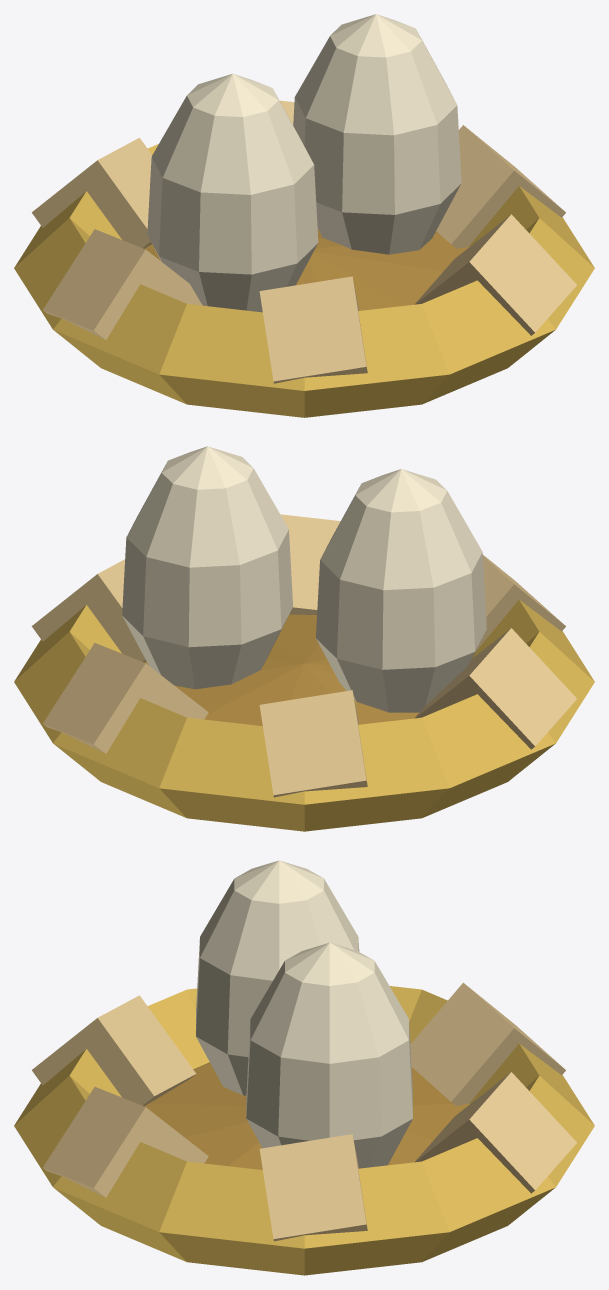
The model's file is egg_nest.glb.
The picture shows the model from 3 angles, top to bottom: view 1: azimuth 30°, elevation 25°; view 2: azimuth 150°, elevation 25°; view 3: azimuth 270°, elevation 25°; orthographic projection.
Parts seen in each view (by area): view 1: Straw_nest_rim, Cream_egg, Cream_egg.001, Straw_woven_bundle.004, Straw_woven_bundle.005, Straw_woven_bundle.003, Nest_woven_bowl, Straw_woven_bundle.002, Straw_woven_bundle; view 2: Straw_nest_rim, Cream_egg.001, Cream_egg, Straw_woven_bundle.002, Nest_woven_bowl, Straw_woven_bundle.001, Straw_woven_bundle.003, Straw_woven_bundle, Straw_woven_bundle.005, Straw_woven_bundle.004; view 3: Straw_nest_rim, Cream_egg.001, Cream_egg, Nest_woven_bowl, Straw_woven_bundle, Straw_woven_bundle.002, Straw_woven_bundle.004, Straw_woven_bundle.001, Straw_woven_bundle.005.
Part boxes in pixels (bbox=[...]): Straw_nest_rim: bbox=[14, 144, 594, 417]; Cream_egg: bbox=[147, 73, 318, 312]; Cream_egg.001: bbox=[293, 14, 461, 254]; Straw_woven_bundle.004: bbox=[259, 276, 367, 383]; Straw_woven_bundle.005: bbox=[414, 214, 576, 335]; Straw_woven_bundle.003: bbox=[43, 229, 202, 339]; Nest_woven_bowl: bbox=[144, 228, 469, 310]; Straw_woven_bundle.002: bbox=[32, 137, 152, 248]; Straw_woven_bundle: bbox=[436, 125, 565, 248]; Straw_nest_rim: bbox=[14, 600, 594, 831]; Cream_egg.001: bbox=[122, 446, 292, 689]; Cream_egg: bbox=[316, 469, 486, 712]; Straw_woven_bundle.002: bbox=[259, 690, 367, 797]; Nest_woven_bowl: bbox=[145, 614, 418, 726]; Straw_woven_bundle.001: bbox=[43, 643, 208, 753]; Straw_woven_bundle.003: bbox=[414, 628, 576, 749]; Straw_woven_bundle: bbox=[31, 559, 146, 662]; Straw_woven_bundle.005: bbox=[280, 514, 340, 614]; Straw_woven_bundle.004: bbox=[476, 555, 565, 650]; Straw_nest_rim: bbox=[14, 986, 594, 1275]; Cream_egg.001: bbox=[246, 942, 412, 1168]; Cream_egg: bbox=[196, 860, 359, 1095]; Nest_woven_bowl: bbox=[144, 1063, 469, 1169]; Straw_woven_bundle: bbox=[259, 1134, 367, 1241]; Straw_woven_bundle.002: bbox=[410, 982, 565, 1105]; Straw_woven_bundle.004: bbox=[32, 995, 196, 1106]; Straw_woven_bundle.001: bbox=[414, 1072, 576, 1193]; Straw_woven_bundle.005: bbox=[43, 1087, 208, 1197].
Size of the model in its own units: 0.46 by 0.26 by 0.46.
